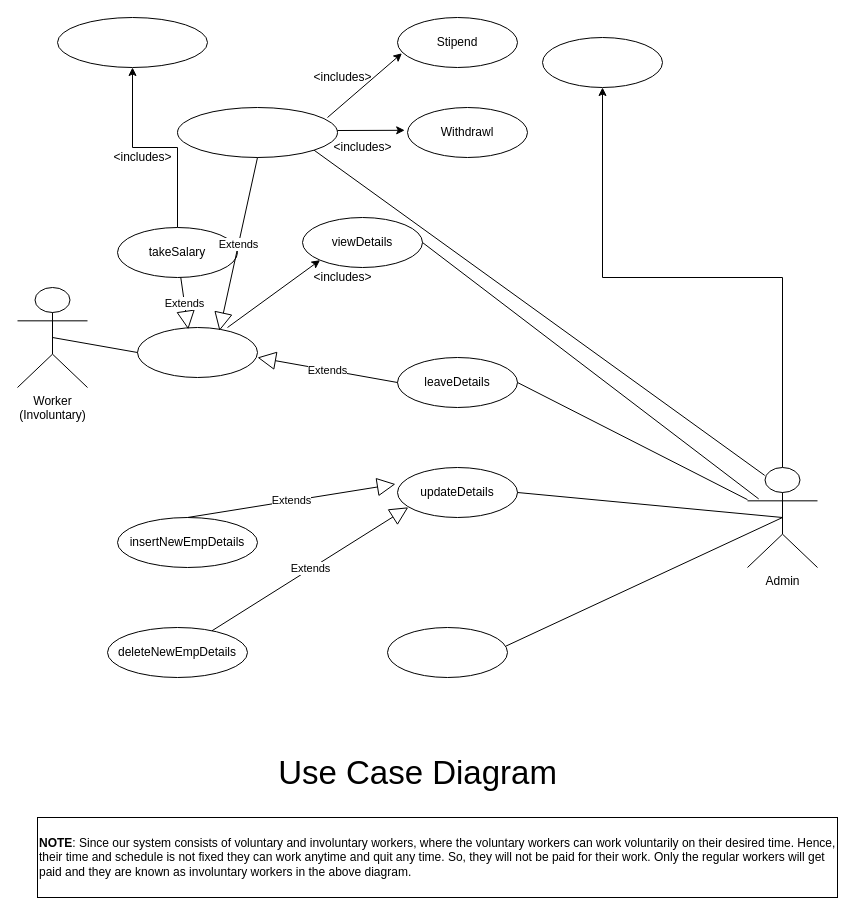
Image size: 855x915. Some labels were removed from this diagram. Each missing label, with the box of its shape:
Login: (136, 326, 258, 378)
ManageDetails: (386, 626, 508, 678)
Payroll for involuntary workers: (56, 16, 208, 68)
Salary provided by the first aid community system: (176, 106, 338, 158)
viewRecord of the worker: (542, 36, 662, 88)
